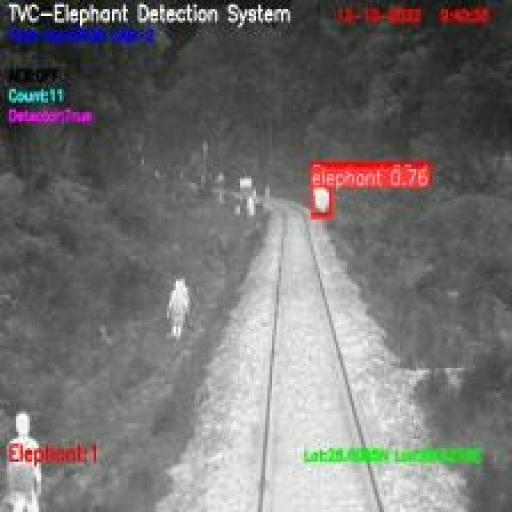Elephant: (311, 185, 331, 216)
